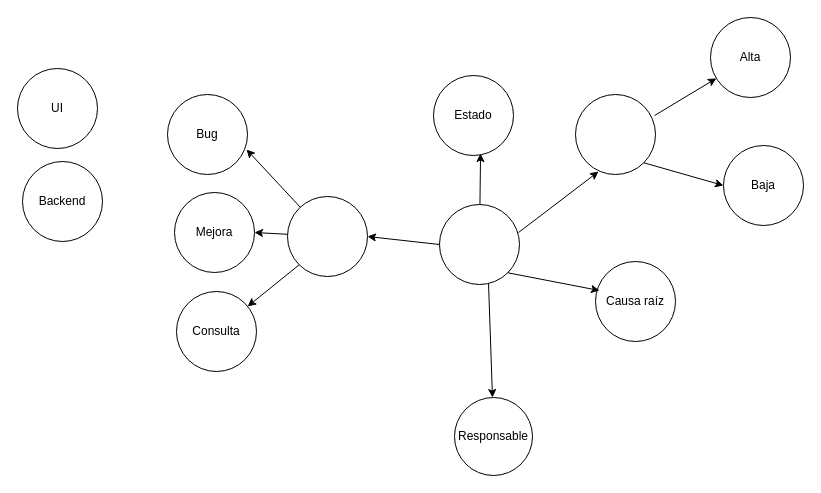
Image size: 821x493. Some labels were removed from this diagram. Each missing label, with the centre of its shape:
"Categoría" goes at point 327,236.
"Incidencia" goes at point 479,244.
"Prioridad" goes at point 615,134.
